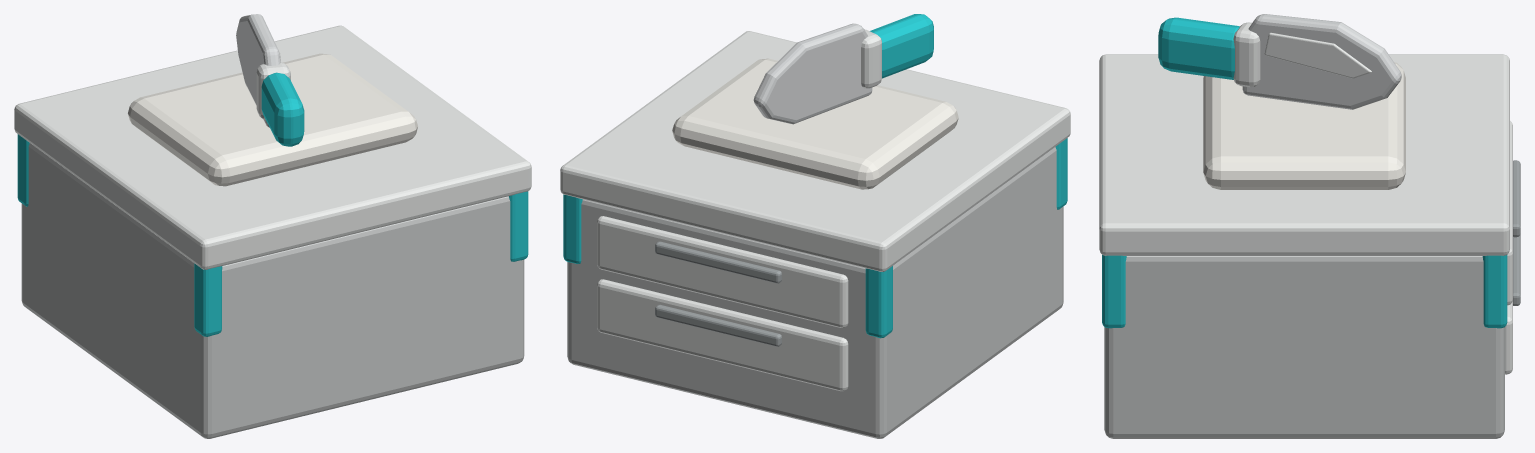
File: ChoppingBoard.fbx
3 renders of one model, left to right at view 1: azimuth 30°, elevation 25°; view 2: azimuth 150°, elevation 25°; view 3: azimuth 270°, elevation 25°, orthographic. The views are drawn at different scales.
Parts seen in each view (by area): view 1: MAT_Steel Geometry.002, MAT_SteelLight Geometry.003, MAT_BoardIvory Geometry, Knife Geometry, MAT_Teal Geometry.002; view 2: MAT_SteelLight Geometry.003, MAT_Steel Geometry.002, MAT_BoardIvory Geometry, Knife Geometry, MAT_Teal Geometry.002, MAT_SteelDark Geometry.002; view 3: MAT_Steel Geometry.002, MAT_SteelLight Geometry.003, MAT_BoardIvory Geometry, Knife Geometry, MAT_Teal Geometry.002, MAT_SteelDark Geometry.002.
Boxes of the visible parts, <box> form: MAT_Steel Geometry.002: <box>21,143,524,438</box>; MAT_SteelLight Geometry.003: <box>14,25,531,269</box>; MAT_BoardIvory Geometry: <box>128,53,417,186</box>; Knife Geometry: <box>236,14,304,146</box>; MAT_Teal Geometry.002: <box>17,134,528,336</box>; MAT_SteelLight Geometry.003: <box>560,31,1070,391</box>; MAT_Steel Geometry.002: <box>567,147,1063,438</box>; MAT_BoardIvory Geometry: <box>672,58,958,189</box>; Knife Geometry: <box>753,14,933,124</box>; MAT_Teal Geometry.002: <box>563,138,1067,338</box>; MAT_SteelDark Geometry.002: <box>655,241,781,346</box>; MAT_Steel Geometry.002: <box>1104,256,1504,438</box>; MAT_SteelLight Geometry.003: <box>1099,54,1512,374</box>; MAT_BoardIvory Geometry: <box>1203,62,1405,189</box>; Knife Geometry: <box>1158,14,1401,109</box>; MAT_Teal Geometry.002: <box>1102,255,1507,328</box>; MAT_SteelDark Geometry.002: <box>1513,160,1520,305</box>.
Size of the model in its own units: 162 by 145 by 166.
